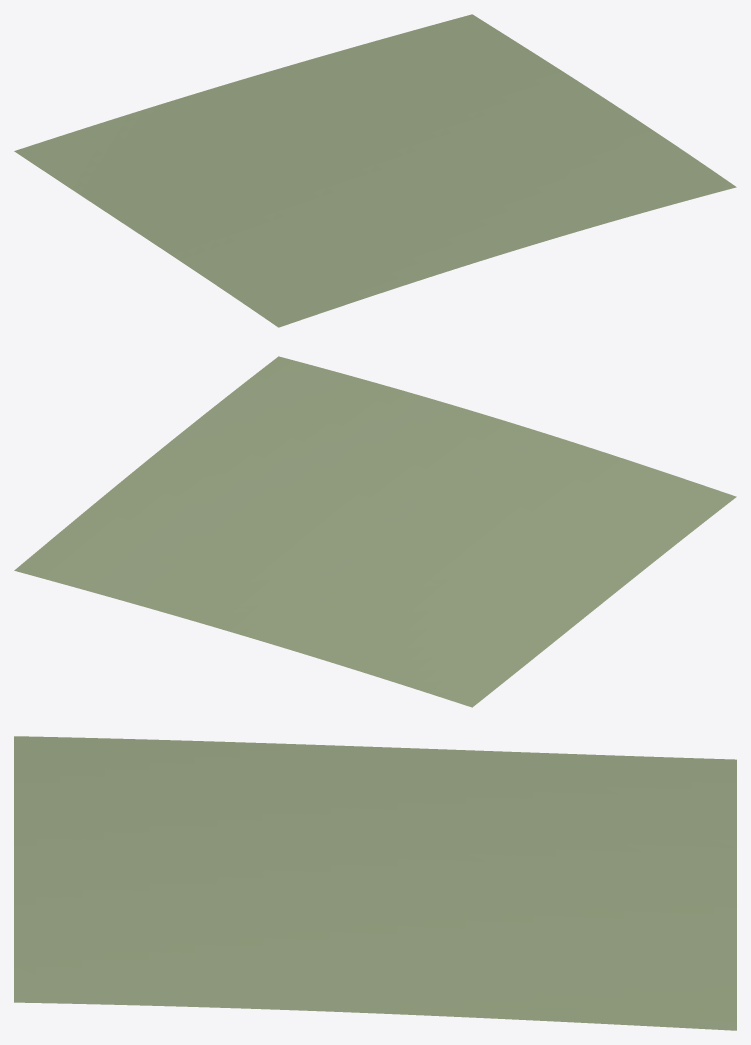
File: expanse-21-12.glb
The picture shows the model from 3 angles, top to bottom: view 1: azimuth 30°, elevation 25°; view 2: azimuth 150°, elevation 25°; view 3: azimuth 270°, elevation 25°; orthographic projection. The views are drawn at different scales.
Parts seen in each view (by area): view 1: expanse-21-12; view 2: expanse-21-12; view 3: expanse-21-12.
Boxes of the visible parts, left/top/right/bottom form: expanse-21-12: left=14, top=14, right=736, bottom=327; expanse-21-12: left=14, top=356, right=736, bottom=707; expanse-21-12: left=14, top=736, right=736, bottom=1030.
Bounding box in the file's own units: 256 × 24.42 × 256.
